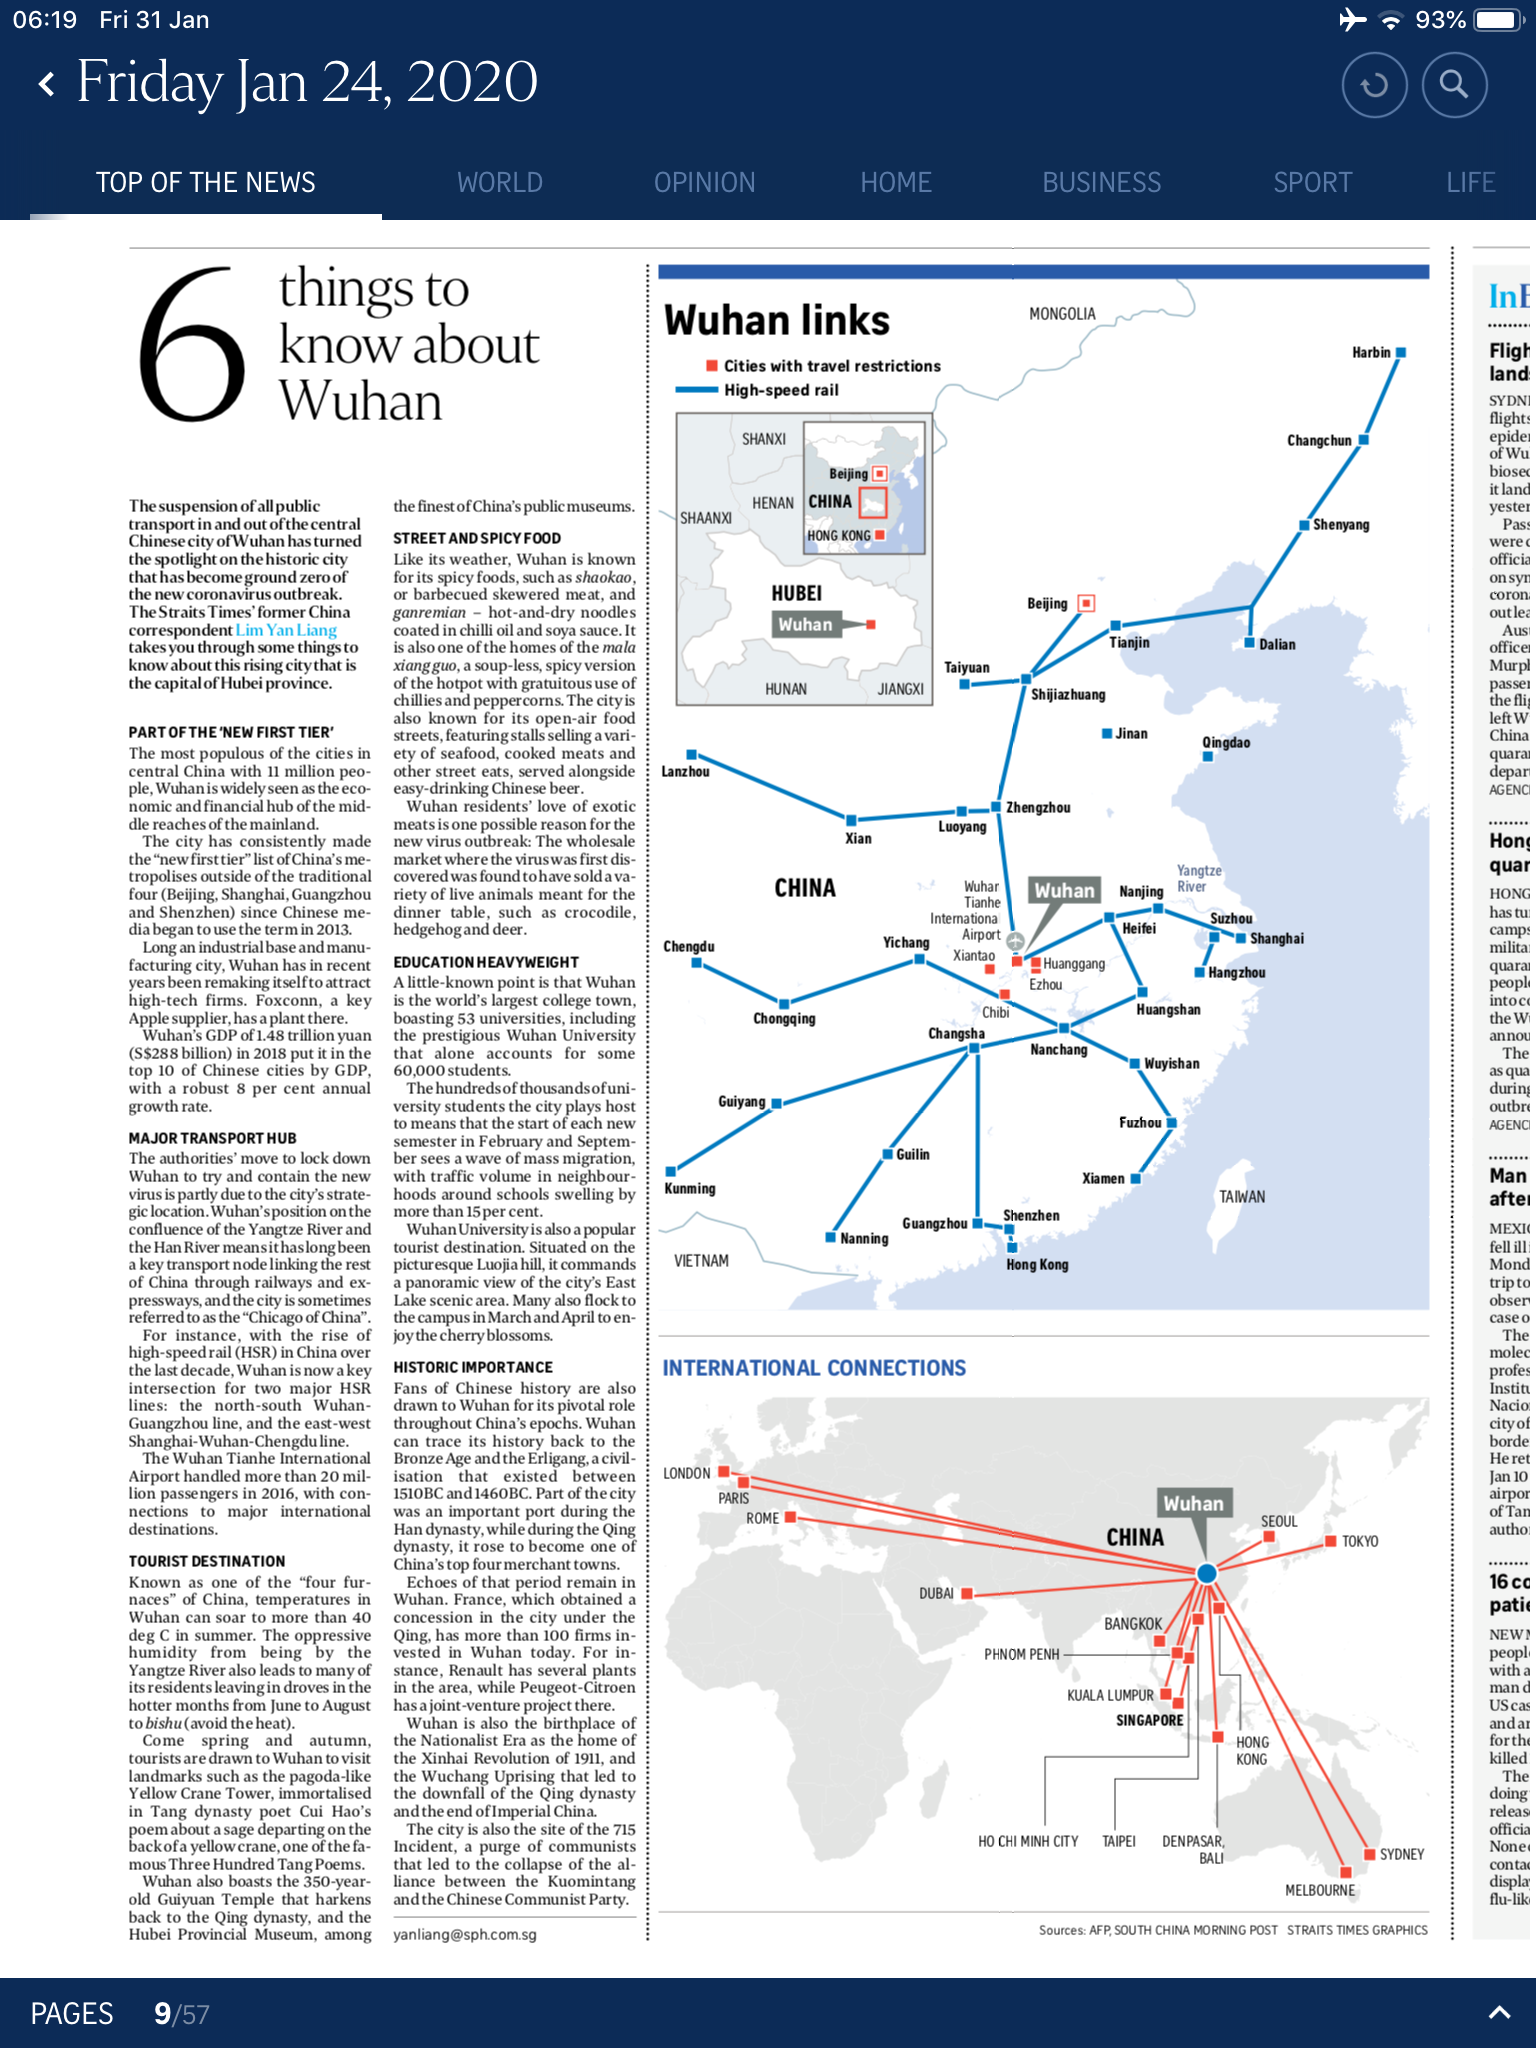Headline: (139, 258, 545, 427)
Illustration: (1034, 1922, 1430, 1942)
Image: (658, 264, 1430, 1317), (657, 1397, 1433, 1908)
Text: (127, 493, 373, 1948), (390, 497, 639, 1909)
